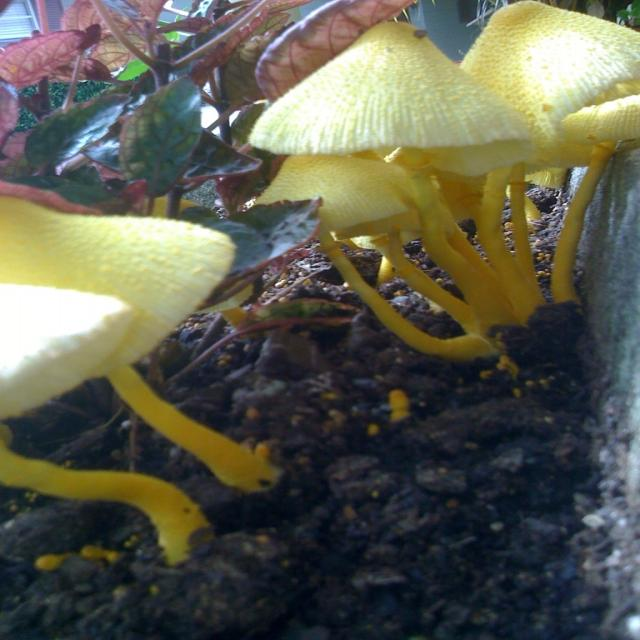Mushroom: (250, 0, 640, 382), (0, 193, 282, 491), (0, 280, 218, 567), (127, 195, 251, 328)
